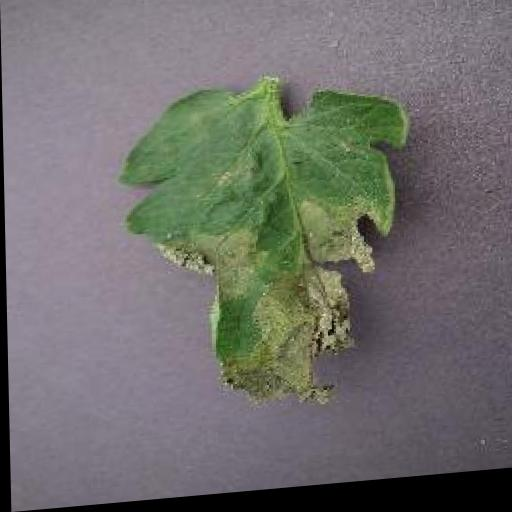Late Blight: (119, 74, 418, 421)
